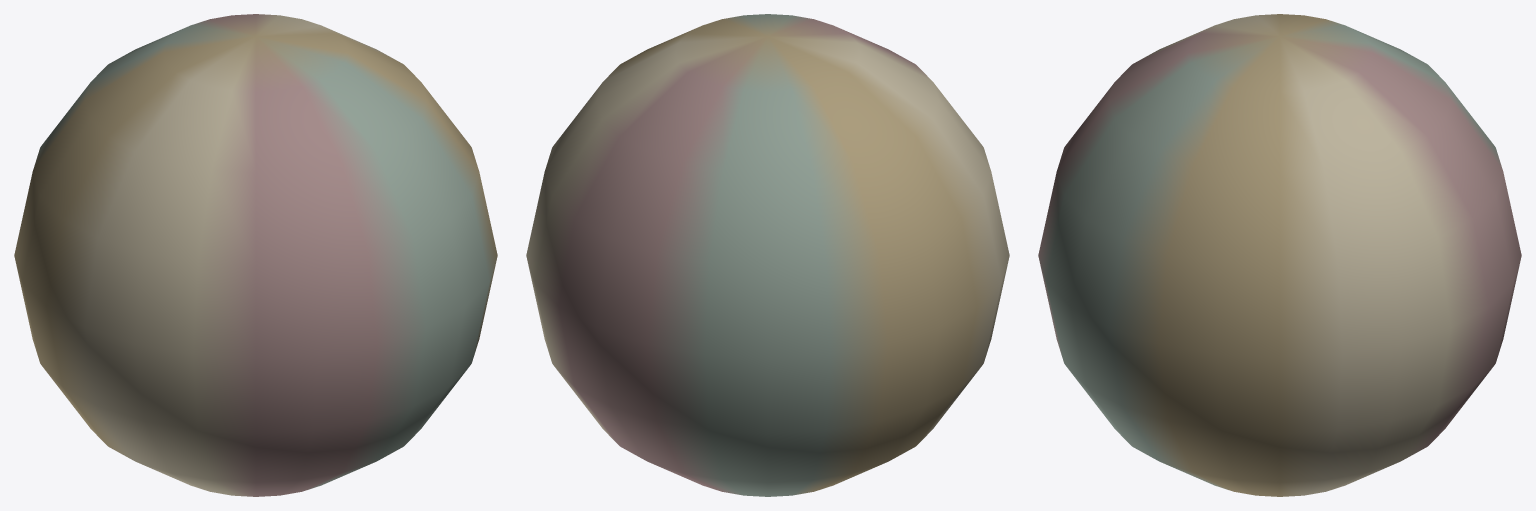
Rendered from beachball.glb.
3 renders of one model, left to right at view 1: azimuth 30°, elevation 25°; view 2: azimuth 150°, elevation 25°; view 3: azimuth 270°, elevation 25°, orthographic.
Parts seen in each view (by area): view 1: closed-beach-ball; view 2: closed-beach-ball; view 3: closed-beach-ball.
Boxes of the visible parts, bbox=[...] form: closed-beach-ball: bbox=[14, 14, 497, 496]; closed-beach-ball: bbox=[526, 14, 1009, 496]; closed-beach-ball: bbox=[1038, 14, 1521, 496].
Bounding box in the file's own units: 0.5598 × 0.5598 × 0.5598.
